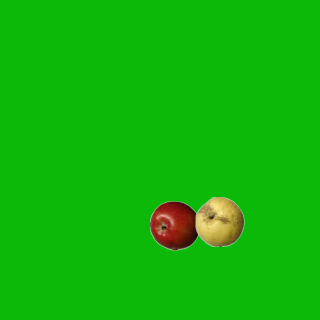Apple Braeburn: (149, 200, 199, 250)
Apple Golden 1: (194, 196, 244, 246)
